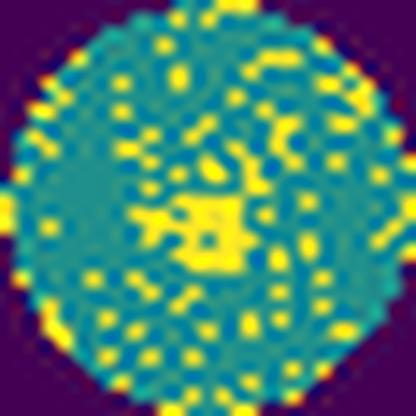Center: (128, 191, 262, 279)
